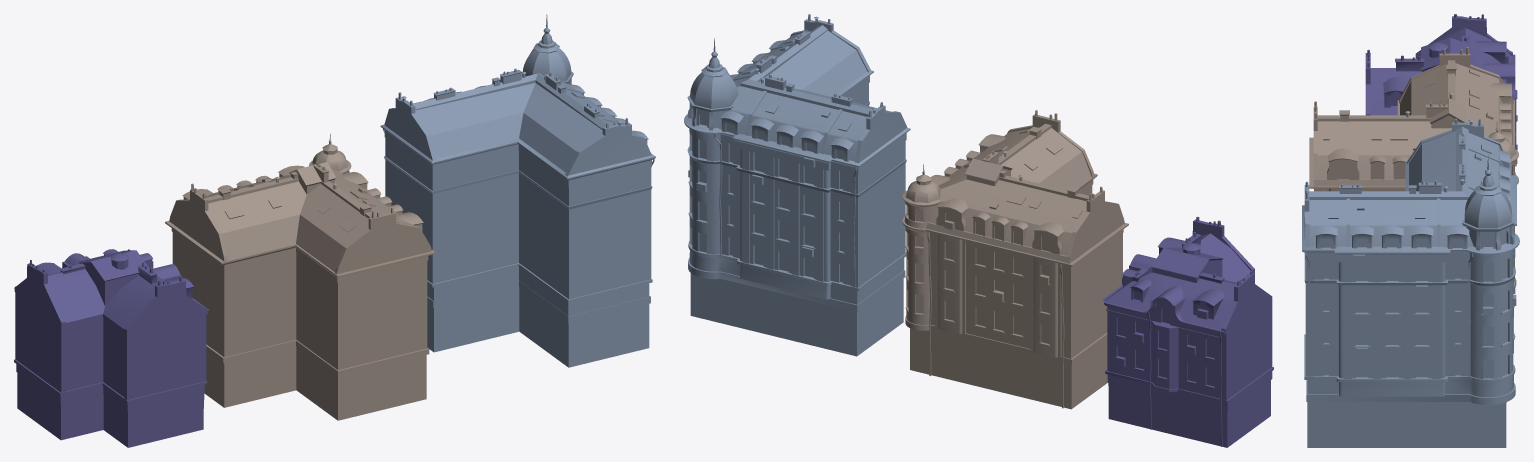
Rendered from building_low.fbx.
3 renders of one model, left to right at view 1: azimuth 30°, elevation 25°; view 2: azimuth 150°, elevation 25°; view 3: azimuth 270°, elevation 25°, orthographic. The views are drawn at different scales.
Parts seen in each view (by area): view 1: building_low_HL_ALEX:building_low04, building_low_HL_ALEX:building_low01, building_low_HL_ALEX:building_low03; view 2: building_low_HL_ALEX:building_low04, building_low_HL_ALEX:building_low01, building_low_HL_ALEX:building_low03; view 3: building_low_HL_ALEX:building_low04, building_low_HL_ALEX:building_low01, building_low_HL_ALEX:building_low03.
Part boxes in pixels (x1,y1,x2,y2): building_low_HL_ALEX:building_low04: [380, 14, 655, 367]; building_low_HL_ALEX:building_low01: [165, 133, 435, 420]; building_low_HL_ALEX:building_low03: [14, 249, 208, 447]; building_low_HL_ALEX:building_low04: [684, 14, 910, 356]; building_low_HL_ALEX:building_low01: [902, 110, 1128, 409]; building_low_HL_ALEX:building_low03: [1102, 216, 1273, 447]; building_low_HL_ALEX:building_low04: [1302, 118, 1519, 447]; building_low_HL_ALEX:building_low01: [1309, 47, 1518, 287]; building_low_HL_ALEX:building_low03: [1365, 14, 1517, 163].
Bounding box in the file's own units: 110 × 52.79 × 36.53.
